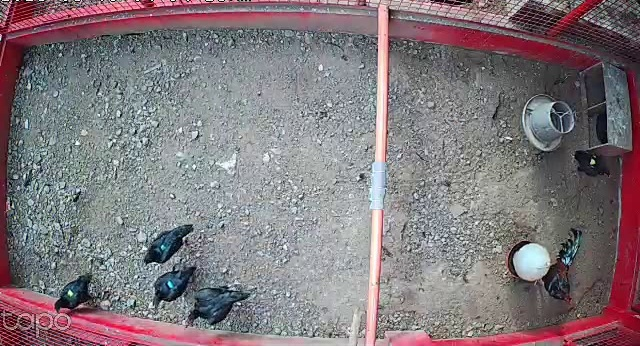Chicken: (183, 283, 252, 326), (143, 222, 194, 268), (150, 266, 195, 311), (54, 270, 91, 315), (570, 147, 612, 182)
Rooster: (533, 229, 587, 306)
Saddle_Color_Blue: (167, 280, 176, 290)
Saddle_Color_Yellow: (69, 288, 75, 299)
